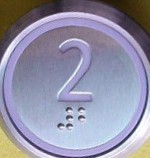Braille: (78, 107, 95, 131), (58, 107, 74, 130)
